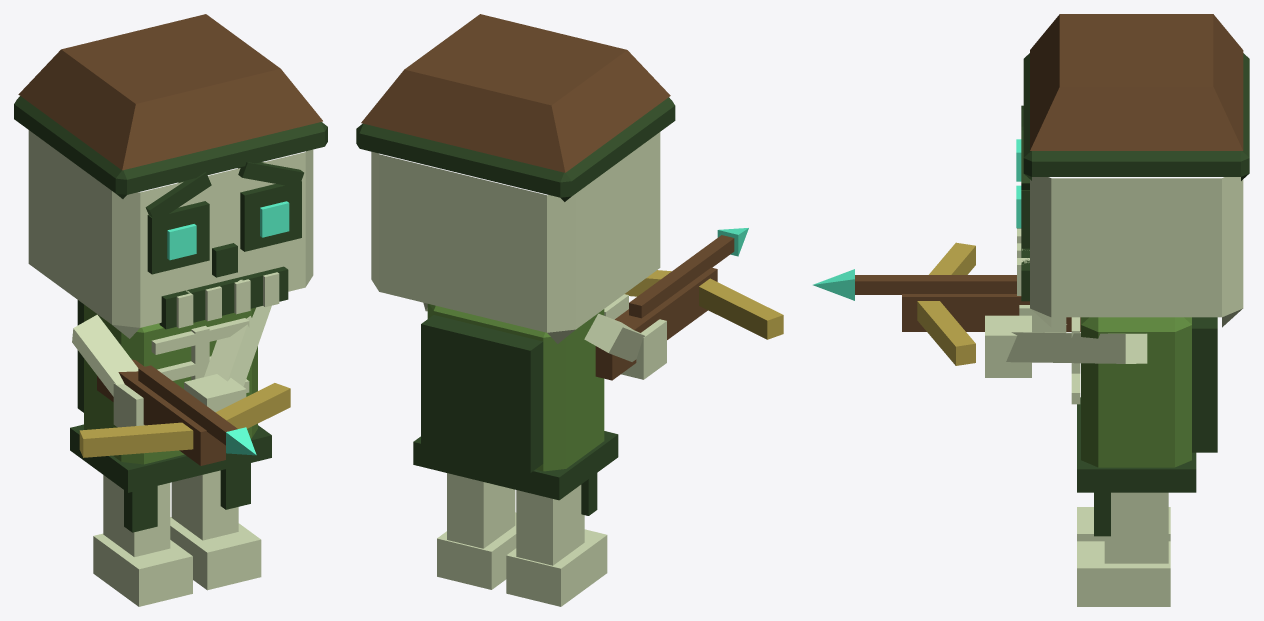
File: gunner_r6.glb
3 renders of one model, left to right at view 1: azimuth 30°, elevation 25°; view 2: azimuth 150°, elevation 25°; view 3: azimuth 270°, elevation 25°, orthographic. The views are drawn at different scales.
Parts seen in each view (by area): view 1: gunner_r6_mesh; view 2: gunner_r6_mesh; view 3: gunner_r6_mesh.
Part boxes in pixels (x1,y1,x2,y2): gunner_r6_mesh: (14,14,327,606); gunner_r6_mesh: (356,14,783,606); gunner_r6_mesh: (813,14,1249,606).
Size of the model in its own units: 0.9217 by 1.6 by 1.21.
Materials: 1 (1 with a texture image).
